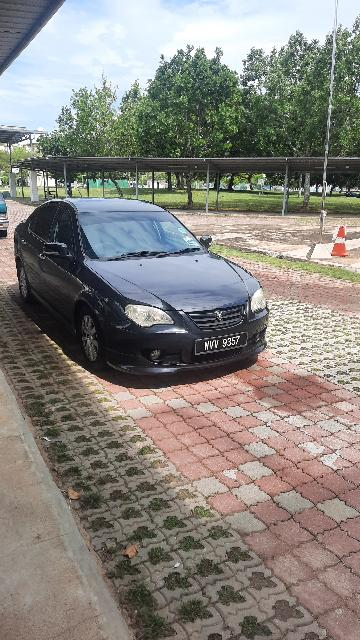License_Plate: (192, 333, 255, 355)
car: (14, 196, 275, 387)
